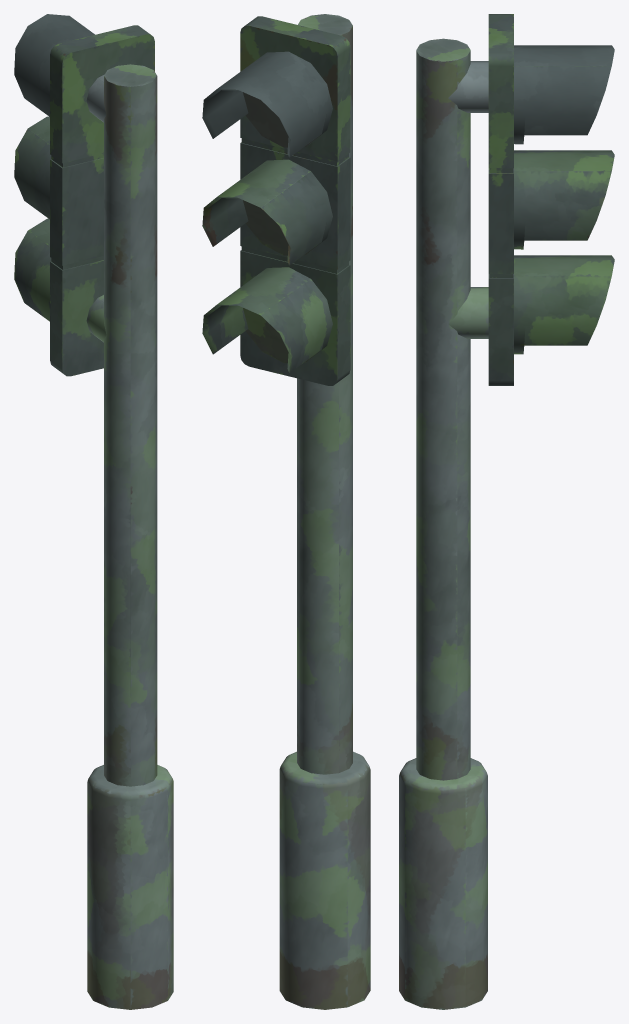
File: feu_signal.fbx
3 views of the same model, side by side, from view 1: azimuth 30°, elevation 25°; view 2: azimuth 150°, elevation 25°; view 3: azimuth 270°, elevation 25° (orthographic). The views are drawn at different scales.
Visible parts, largest first — view 1: Feu de route 1; view 2: Feu de route 1; view 3: Feu de route 1.
Boxes of the visible parts, <box> form: Feu de route 1: <box>14,14,173,1009</box>; Feu de route 1: <box>202,14,370,1009</box>; Feu de route 1: <box>399,14,614,1009</box>.
Size of the model in its own units: 146 by 1405 by 287.
